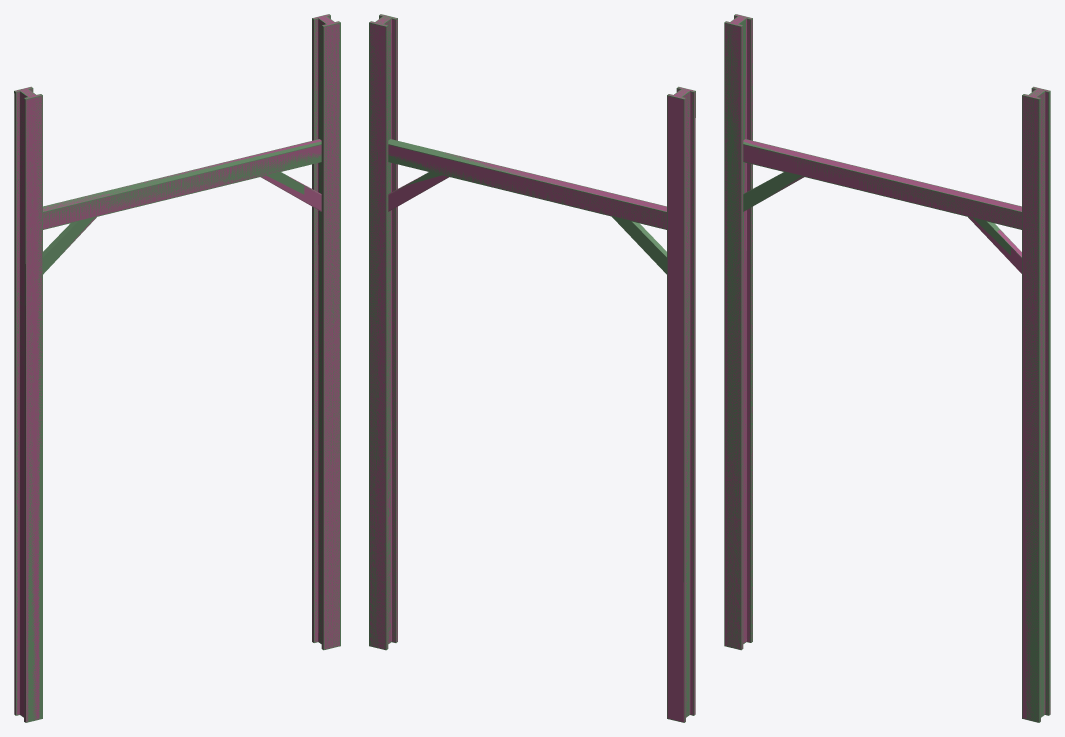
The model's file is StepsPlatformFrame_01_Mesh.fbx.
3 views of the same model, side by side, from view 1: azimuth 30°, elevation 25°; view 2: azimuth 150°, elevation 25°; view 3: azimuth 330°, elevation 25° (orthographic).
Parts seen in each view (by area): view 1: Studio_Platform_Support_LOD0, Studio_Platform_Support_Col; view 2: Studio_Platform_Support_LOD0, Studio_Platform_Support_Col; view 3: Studio_Platform_Support_LOD0, Studio_Platform_Support_Col.
Boxes of the visible parts, box(x1,y1,x2,y2) form: Studio_Platform_Support_LOD0: box(14, 14, 339, 721); Studio_Platform_Support_Col: box(14, 14, 340, 722); Studio_Platform_Support_LOD0: box(370, 14, 695, 722); Studio_Platform_Support_Col: box(369, 14, 695, 722); Studio_Platform_Support_LOD0: box(725, 14, 1050, 721); Studio_Platform_Support_Col: box(724, 14, 1050, 722).
Size of what is drawn, in the model's own units: 2.32 by 4.39 by 0.1481.
